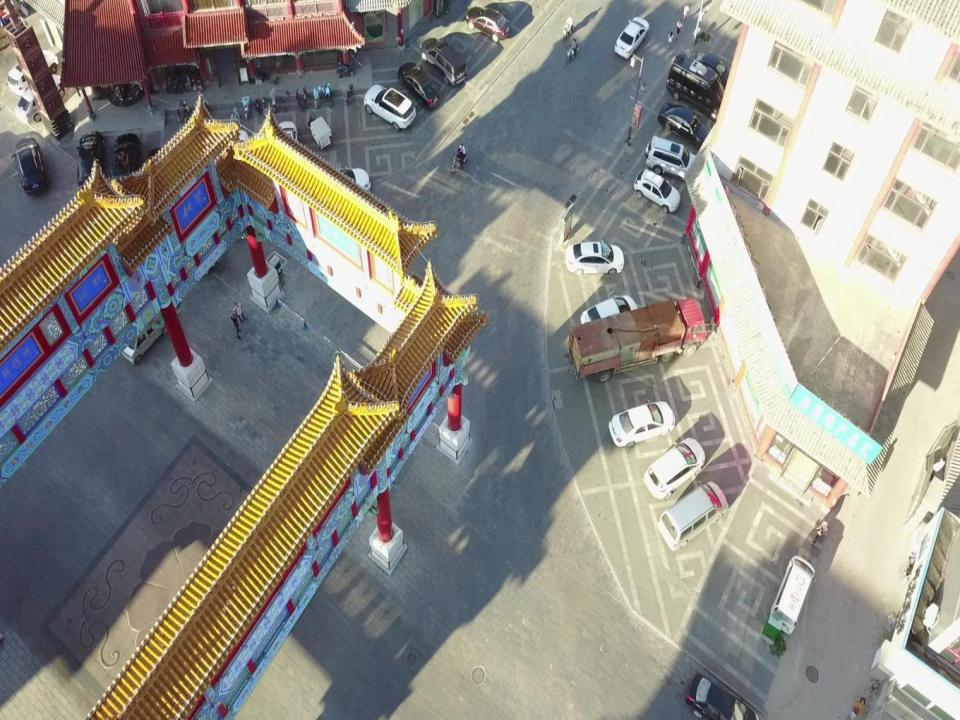car: (643, 437, 705, 500), (685, 671, 759, 719), (608, 398, 675, 447), (658, 102, 714, 153), (645, 136, 703, 182), (15, 74, 65, 124), (363, 84, 416, 131), (8, 49, 59, 95), (419, 38, 467, 86), (12, 136, 49, 195), (397, 61, 442, 109), (564, 239, 624, 275), (580, 295, 639, 331), (633, 170, 681, 214), (687, 52, 740, 90), (111, 133, 143, 192), (316, 166, 371, 200), (75, 131, 106, 187), (148, 148, 177, 204), (466, 6, 511, 42), (615, 17, 650, 59), (278, 122, 298, 164)
truck: (568, 299, 706, 381)
van: (657, 481, 729, 551), (666, 51, 730, 122), (118, 291, 178, 363), (766, 556, 816, 634)
